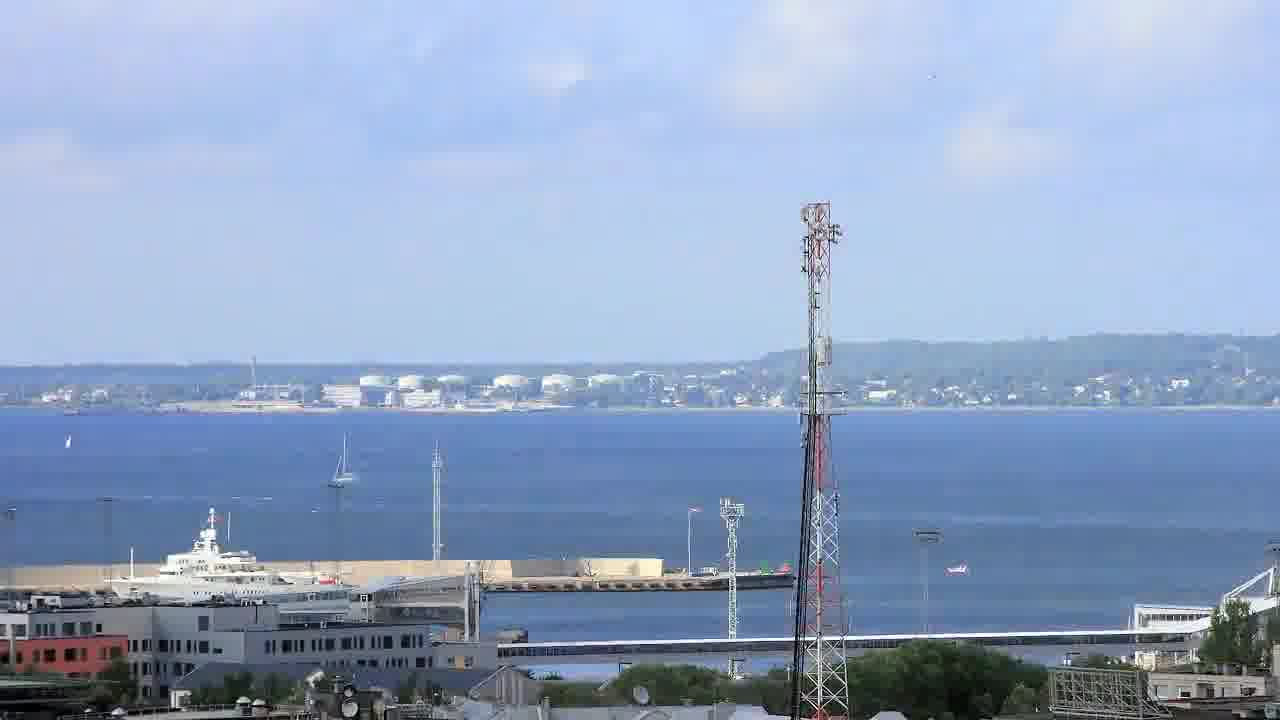type-2: (310, 423, 379, 490)
type-3: (96, 508, 381, 605)
type-4: (938, 551, 997, 586)
